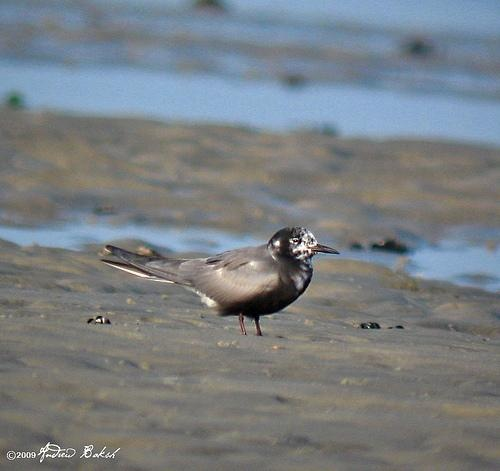bird: (95, 225, 343, 340)
